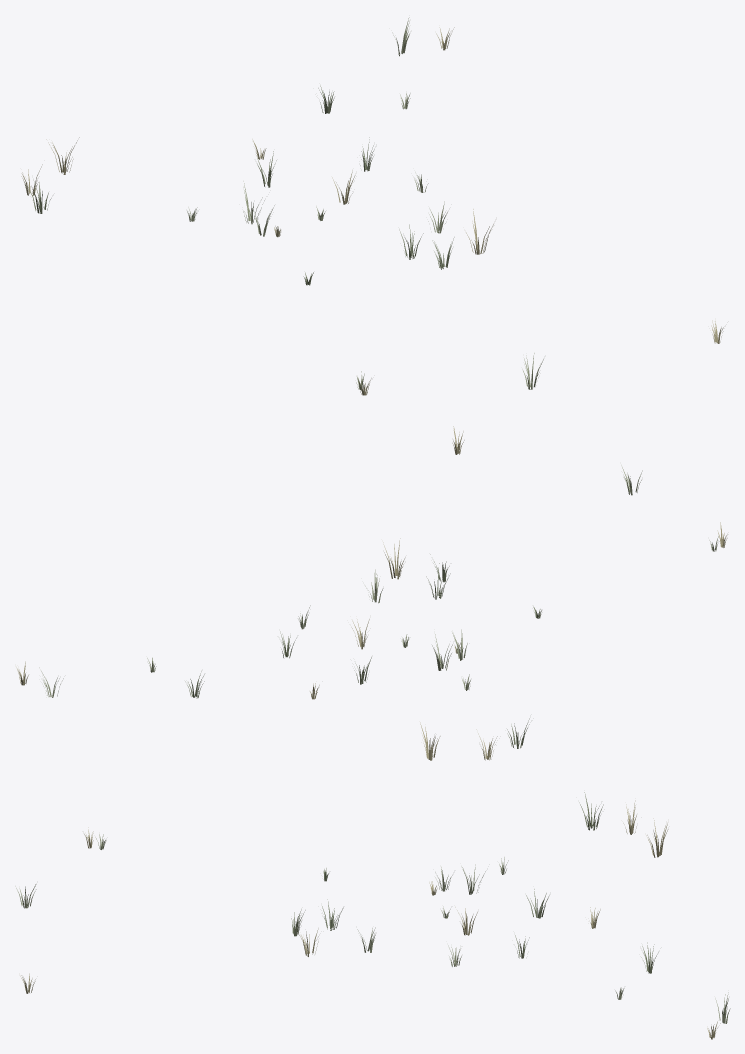
File: AE_Grass_0_-1.fbx
3 views of the same model, one above another, from view 1: azimuth 30°, elevation 25°; view 2: azimuth 150°, elevation 25°; view 3: azimuth 270°, elevation 25° (orthographic). The views are drawn at different scales.
Visible parts, largest first — view 1: AE_Grass_0_-1_LOD0; view 2: AE_Grass_0_-1_LOD0; view 3: AE_Grass_0_-1_LOD0.
Boxes of the visible parts, bbox=[...] form: AE_Grass_0_-1_LOD0: bbox=[21, 17, 723, 395]; AE_Grass_0_-1_LOD0: bbox=[16, 426, 727, 760]; AE_Grass_0_-1_LOD0: bbox=[15, 792, 730, 1039].
Size of what is drawn, in the model's own units: 1322 by 104 by 1803.
